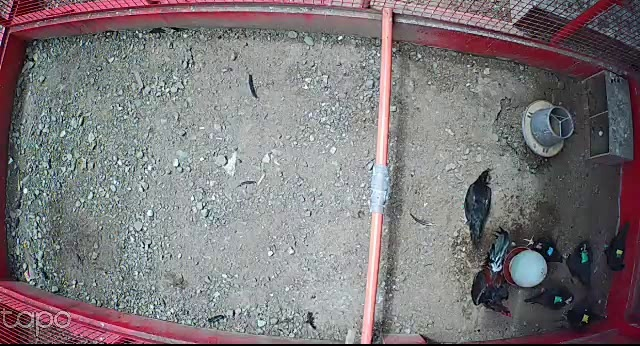Chicken: (456, 161, 496, 249), (561, 239, 595, 294), (600, 219, 632, 276), (519, 233, 566, 268), (554, 306, 612, 334), (523, 283, 576, 312)
Drinker: (502, 245, 552, 294)
Feeder: (520, 97, 576, 161)
Rooster: (466, 222, 514, 325)
Saddle_Color_Blue: (546, 246, 554, 255)
Saddle_Color_Green: (580, 251, 590, 266)
Saddle_Color_Yellow: (581, 315, 590, 324)
Saddle_Color_YellowGreen: (612, 250, 625, 260)
